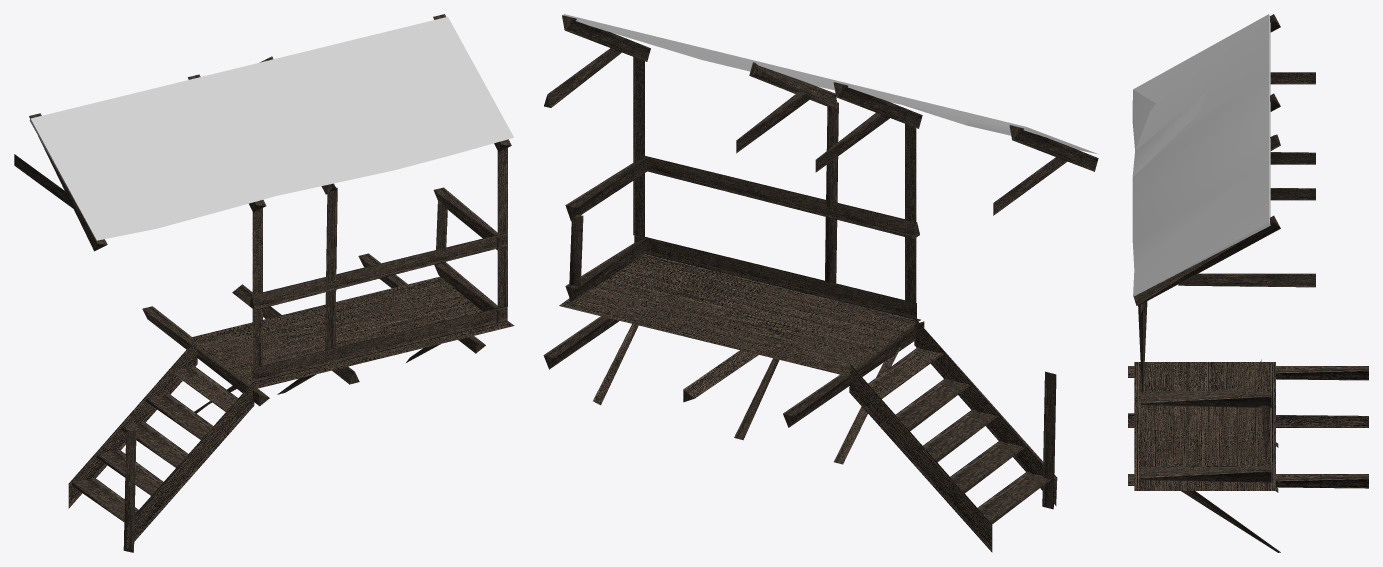
Rendered from stairs balcony_LOD.fbx.
The picture shows the model from 3 angles, left to right: view 1: azimuth 30°, elevation 25°; view 2: azimuth 150°, elevation 25°; view 3: azimuth 270°, elevation 25°; orthographic projection. The views are drawn at different scales.
Parts seen in each view (by area): view 1: Mesh Object; view 2: Mesh Object; view 3: Mesh Object.
Part boxes in pixels (bbox=[...]): Mesh Object: bbox=[14, 14, 514, 552]; Mesh Object: bbox=[543, 14, 1098, 552]; Mesh Object: bbox=[1128, 14, 1368, 552].
Size of the model in its own units: 6.85 by 6.23 by 3.33.
